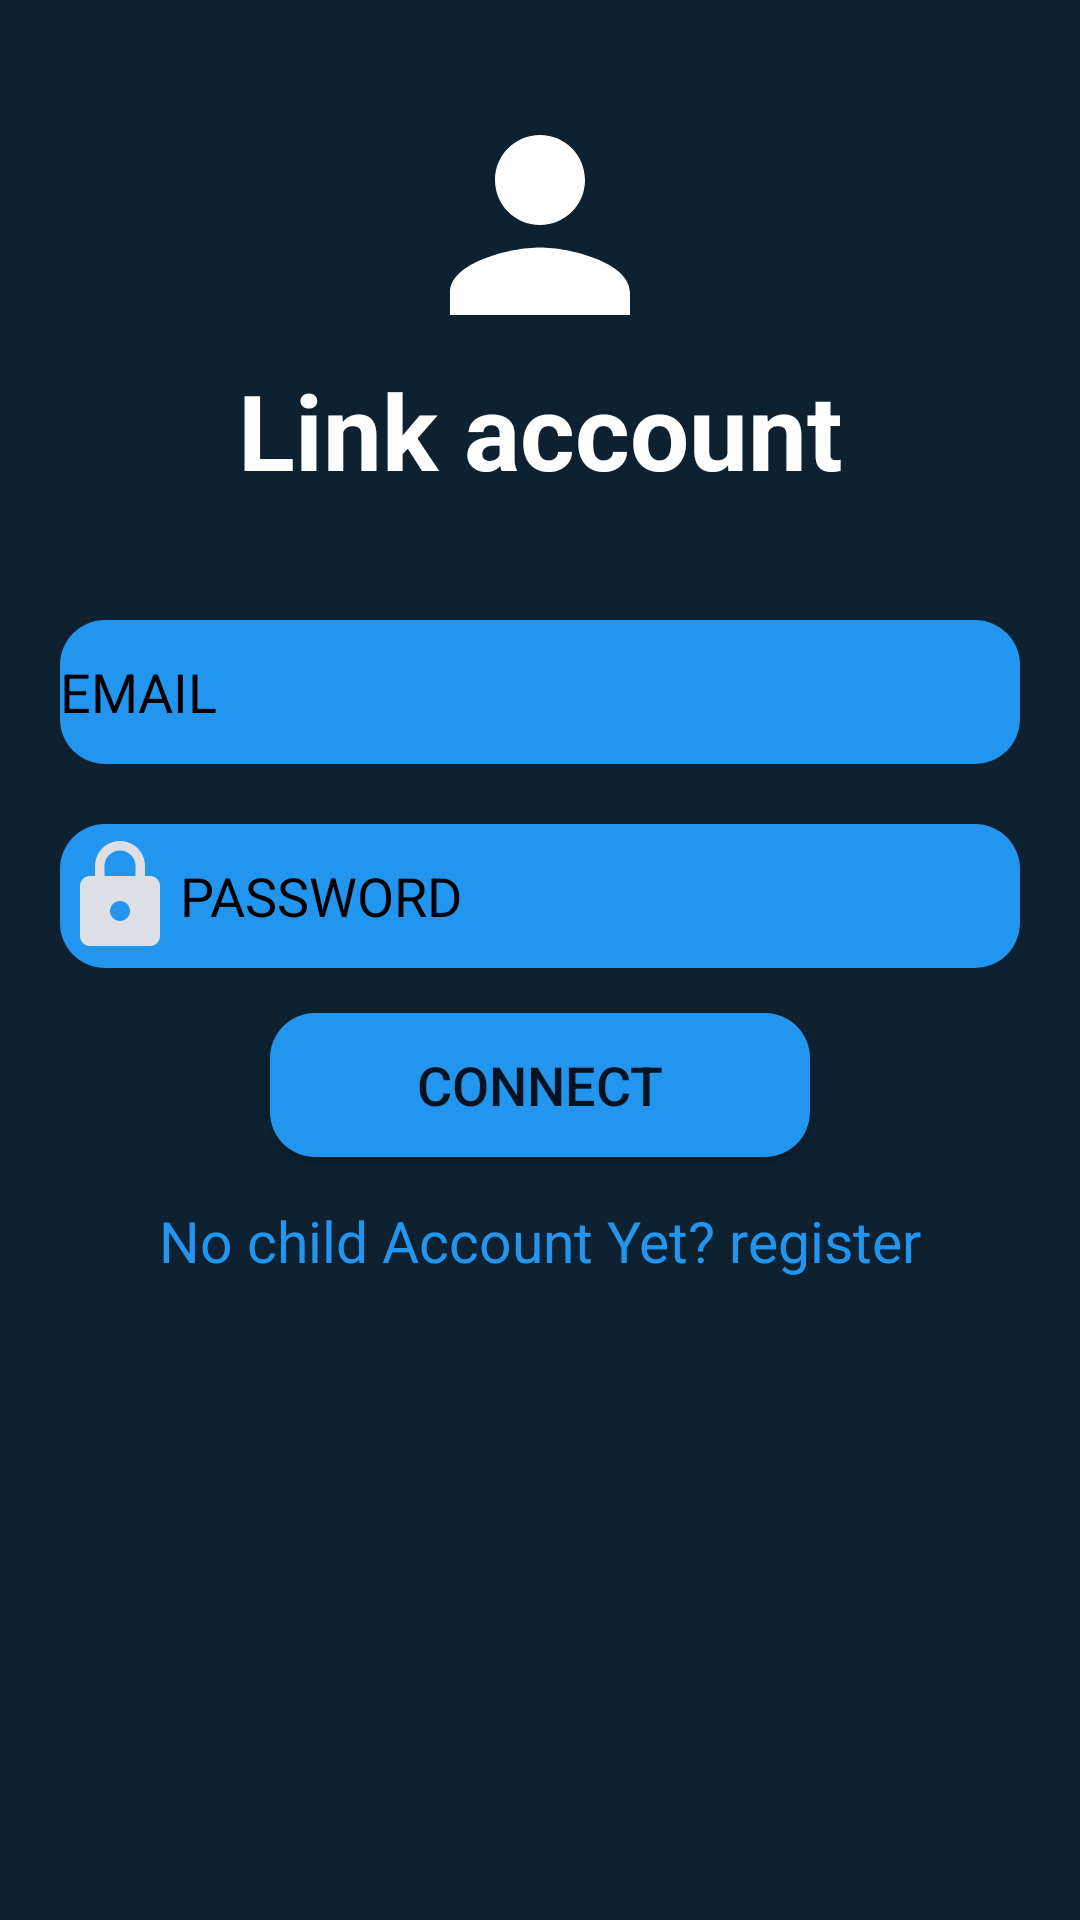

Where icons sit on this 1080 x 1920 app screen, as (x1, y1, x2, y2):
profile: (450, 135, 630, 315)
